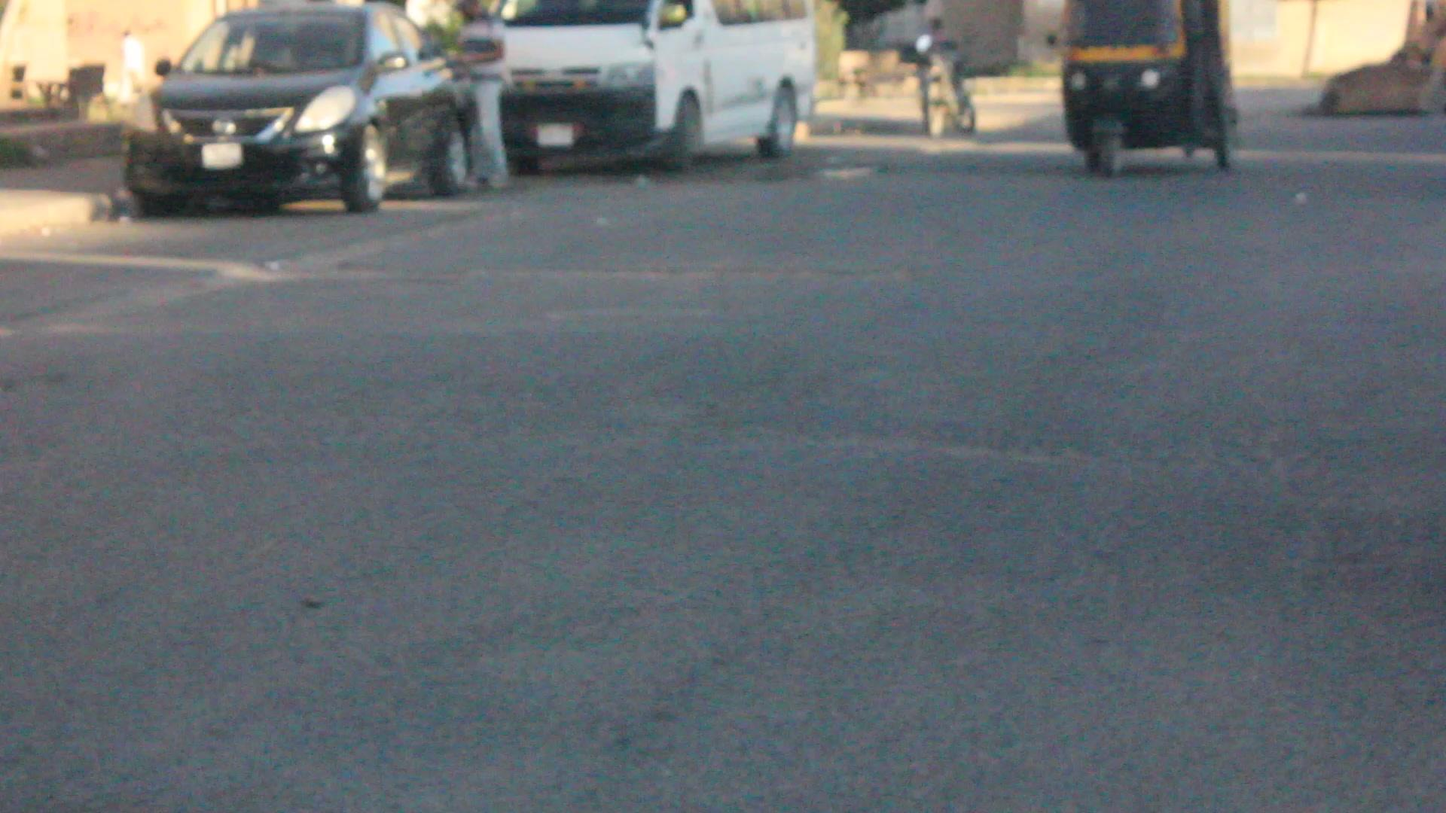Bump: (132, 282, 1446, 440)
